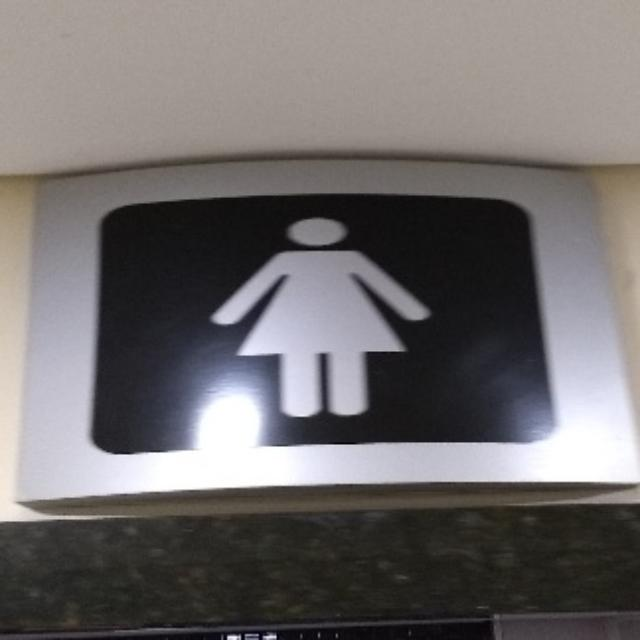wc nu: (18, 160, 638, 500)
